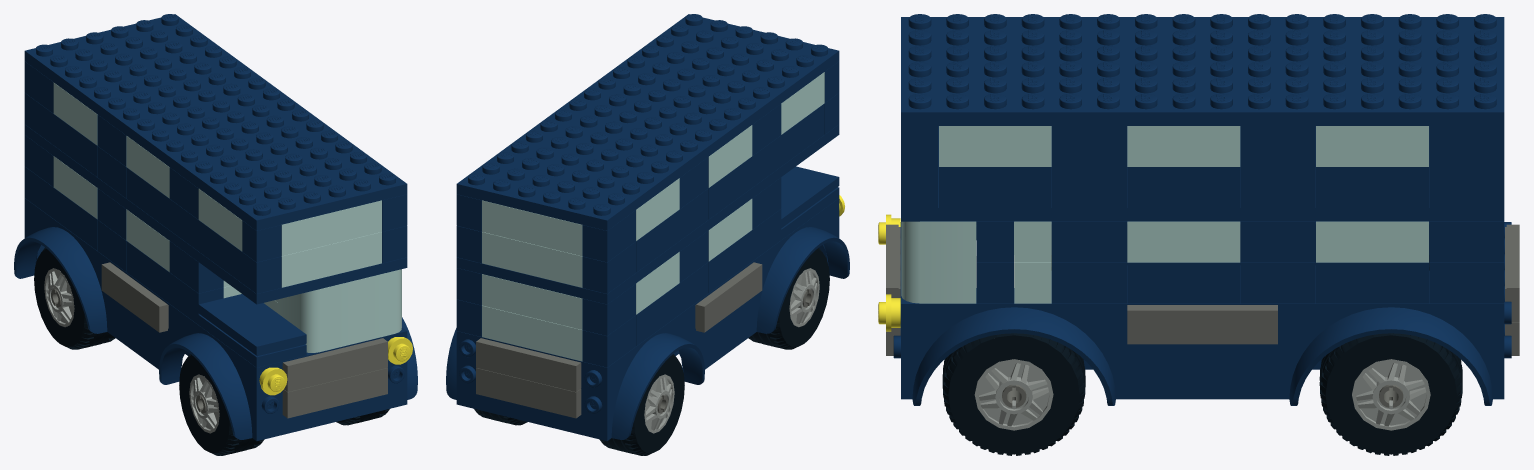
Rendered from bluebus.glb.
The picture shows the model from 3 angles, left to right: view 1: azimuth 30°, elevation 25°; view 2: azimuth 150°, elevation 25°; view 3: azimuth 270°, elevation 25°; orthographic projection. The views are drawn at different scales.
Parts seen in each view (by area): view 1: 3027.dat.001, 65094p01.dat, 4594.dat, 3027.dat, 87079.dat, 2431.dat.001, 2431.dat.002, 58090.dat, 58090.dat.001, 2431.dat, 3065.dat.031, 3065.dat.032 (+33 smaller); view 2: 3027.dat.001, 65094p01.dat, 3027.dat, 2431.dat.004, 3066.dat, 3066.dat.002, 3066.dat.001, 3066.dat.003, 2431.dat.005, 58090.dat.001, 58090.dat, 2431.dat (+32 smaller); view 3: 3027.dat.001, 65094p01.dat, 58090.dat.002, 58090.dat.003, 3027.dat, 4594.dat, 2431.dat.003, 3622.dat.003, 3622.dat.019, 3622.dat.004, 3622.dat.018, 3622.dat.008 (+28 smaller).
Part boxes in pixels (bbox=[...]): 3027.dat.001: bbox=[24, 14, 407, 230]; 65094p01.dat: bbox=[14, 198, 417, 440]; 4594.dat: bbox=[278, 269, 401, 352]; 3027.dat: bbox=[24, 124, 407, 304]; 87079.dat: bbox=[198, 294, 306, 356]; 2431.dat.001: bbox=[282, 338, 387, 391]; 2431.dat.002: bbox=[282, 368, 387, 418]; 58090.dat: bbox=[179, 354, 264, 455]; 58090.dat.001: bbox=[34, 247, 115, 349]; 2431.dat: bbox=[101, 262, 168, 332]; 3065.dat.031: bbox=[281, 244, 331, 287]; 3065.dat.032: bbox=[281, 212, 331, 255]; 3027.dat.001: bbox=[456, 14, 839, 230]; 65094p01.dat: bbox=[446, 198, 849, 440]; 3027.dat: bbox=[456, 124, 839, 304]; 2431.dat.004: bbox=[476, 338, 581, 391]; 3066.dat: bbox=[482, 305, 582, 361]; 3066.dat.002: bbox=[482, 232, 582, 287]; 3066.dat.001: bbox=[482, 274, 582, 329]; 3066.dat.003: bbox=[482, 200, 582, 255]; 2431.dat.005: bbox=[476, 368, 581, 418]; 58090.dat.001: bbox=[599, 354, 684, 455]; 58090.dat: bbox=[748, 247, 829, 349]; 2431.dat: bbox=[695, 262, 762, 332]; 3027.dat.001: bbox=[901, 14, 1504, 125]; 65094p01.dat: bbox=[893, 222, 1511, 407]; 58090.dat.002: bbox=[1319, 333, 1462, 455]; 58090.dat.003: bbox=[942, 333, 1085, 455]; 3027.dat: bbox=[901, 126, 1504, 221]; 4594.dat: bbox=[901, 221, 976, 303]; 2431.dat.003: bbox=[1127, 305, 1277, 344]; 3622.dat.003: bbox=[1127, 262, 1240, 303]; 3622.dat.019: bbox=[1127, 221, 1240, 262]; 3622.dat.004: bbox=[1316, 262, 1428, 303]; 3622.dat.018: bbox=[1316, 221, 1428, 262]; 3622.dat.008: bbox=[1127, 167, 1240, 207].
Size of the model in its own units: 1.59 by 2.04 by 3.4.
